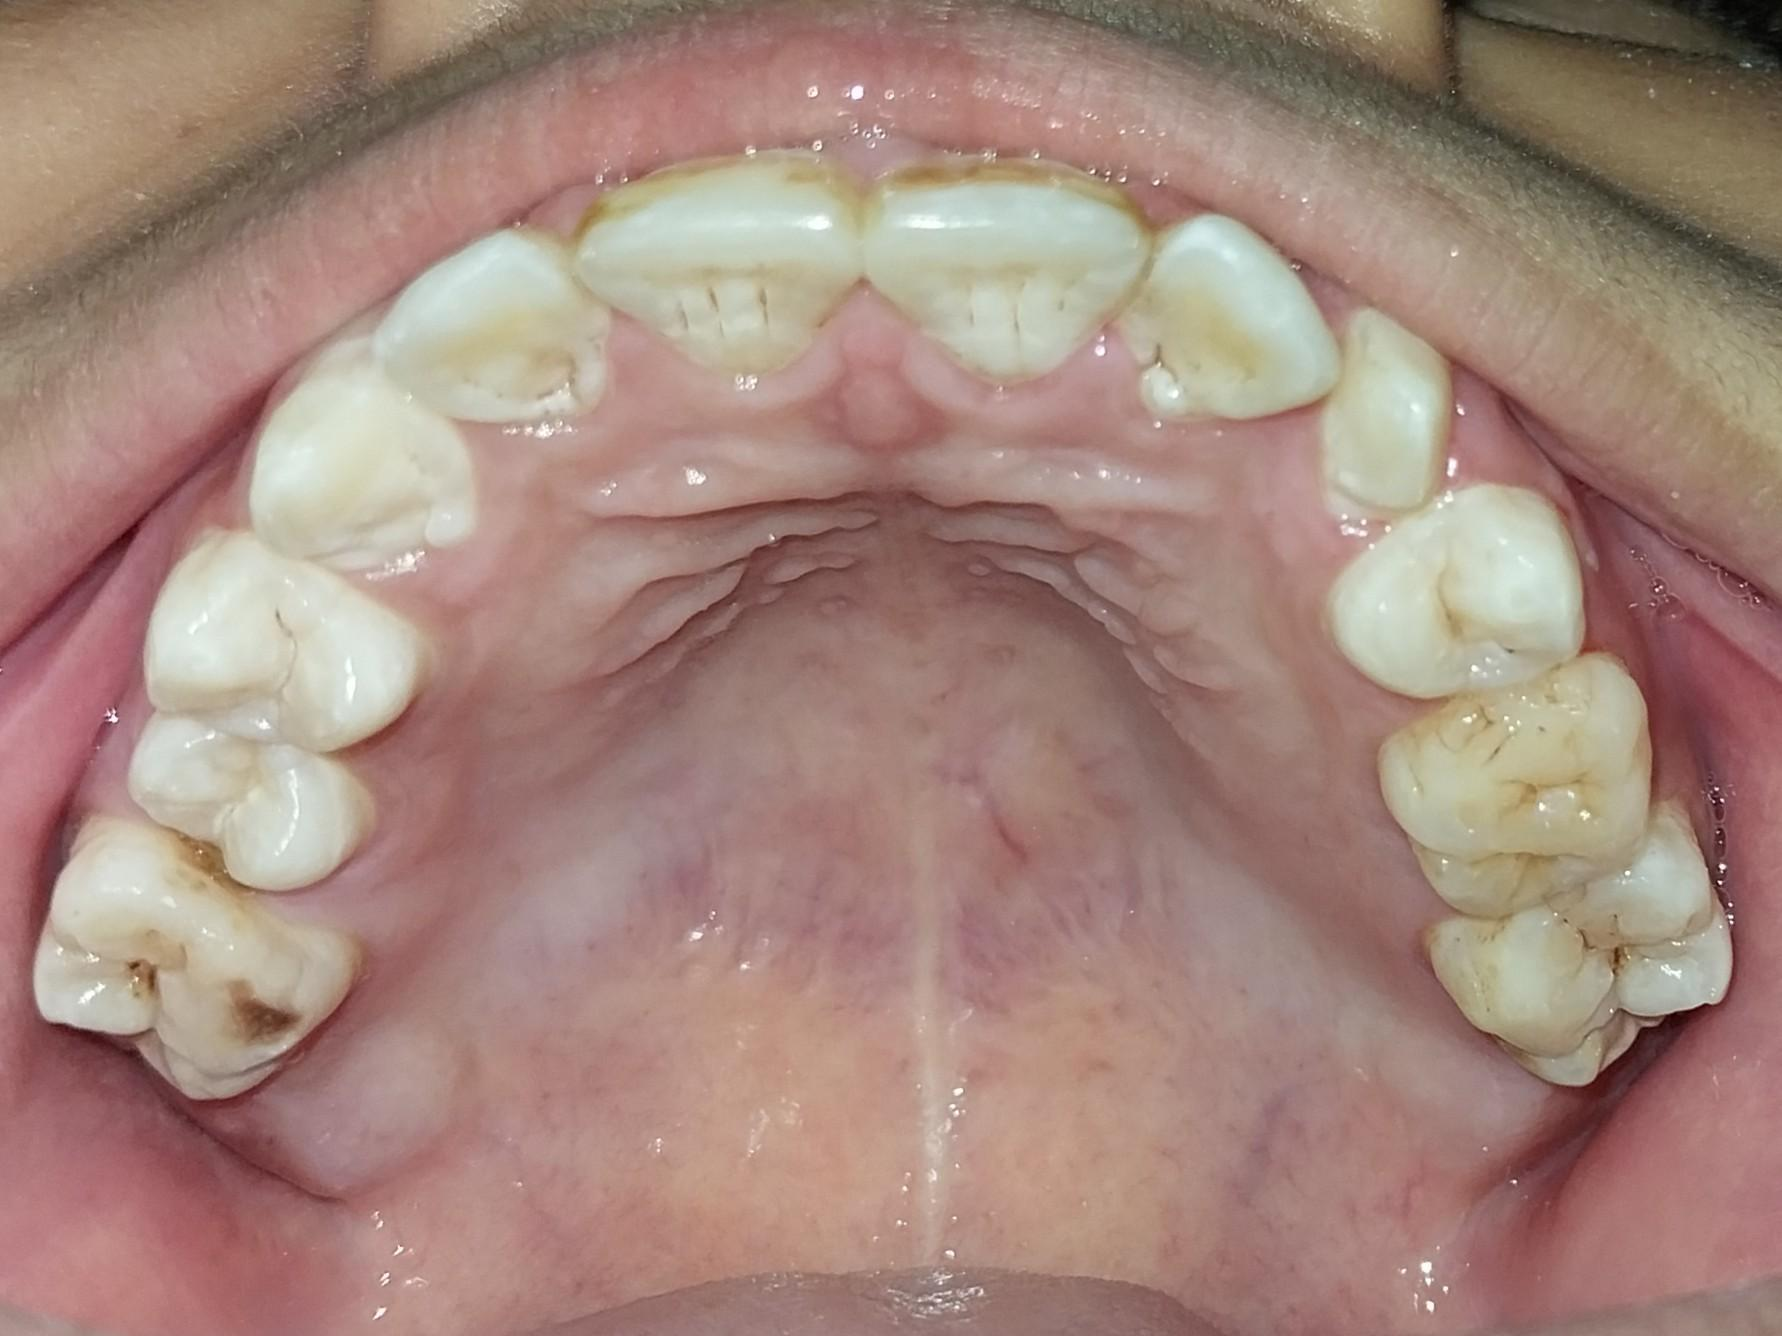D: (26, 813, 355, 1104), (1424, 804, 1737, 1094)
